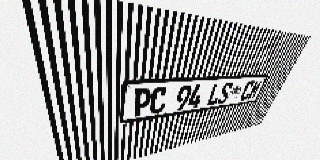4: (187, 84, 205, 109)
9: (174, 85, 193, 111)
C: (149, 86, 168, 115), (239, 80, 256, 101)
L: (206, 83, 224, 106)
M: (247, 80, 263, 100)
P: (132, 88, 152, 117)
S: (216, 82, 234, 104)
